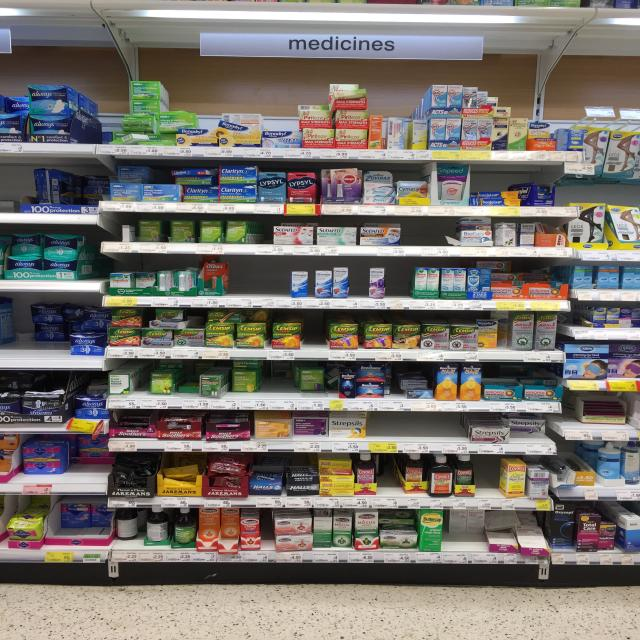empty: (366, 410, 464, 445), (228, 269, 298, 301), (394, 221, 460, 249), (376, 452, 411, 501), (475, 453, 508, 501)
